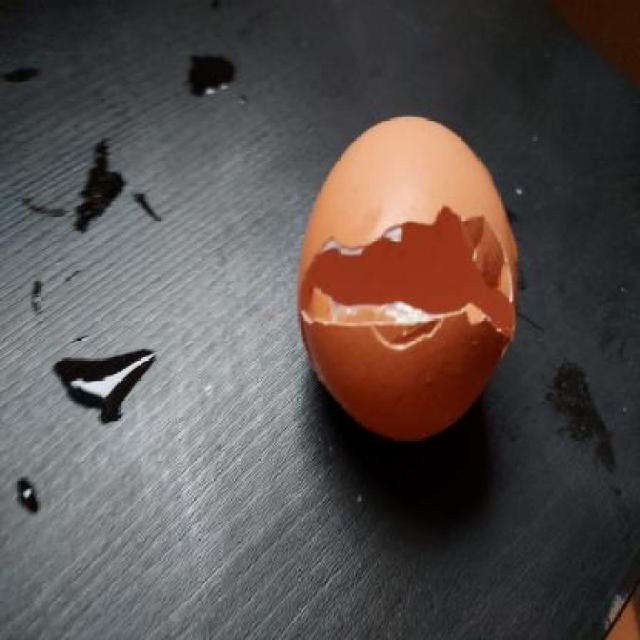biodegradable: (294, 116, 531, 447)
